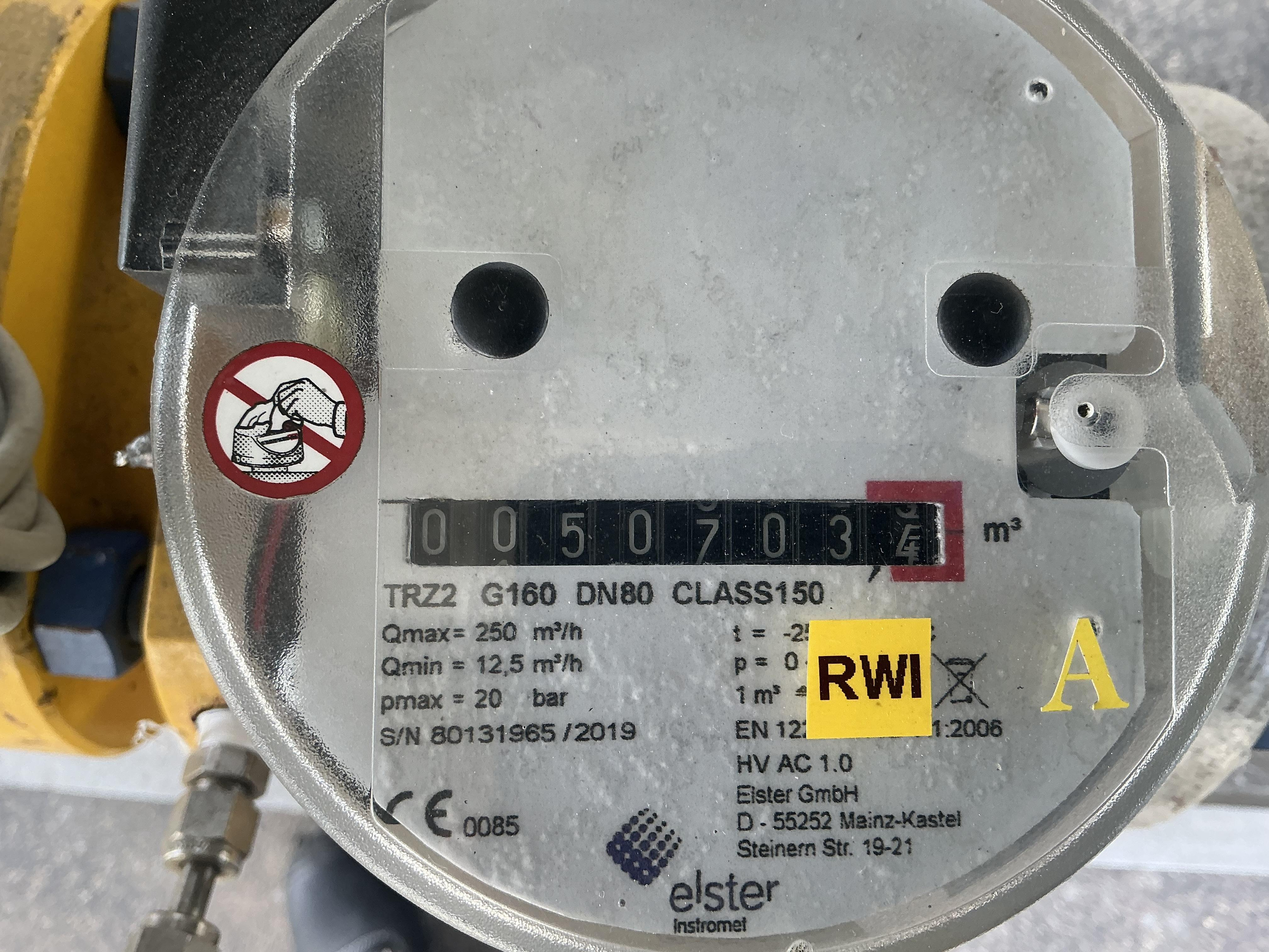analog_dial: (405, 465, 972, 584)
